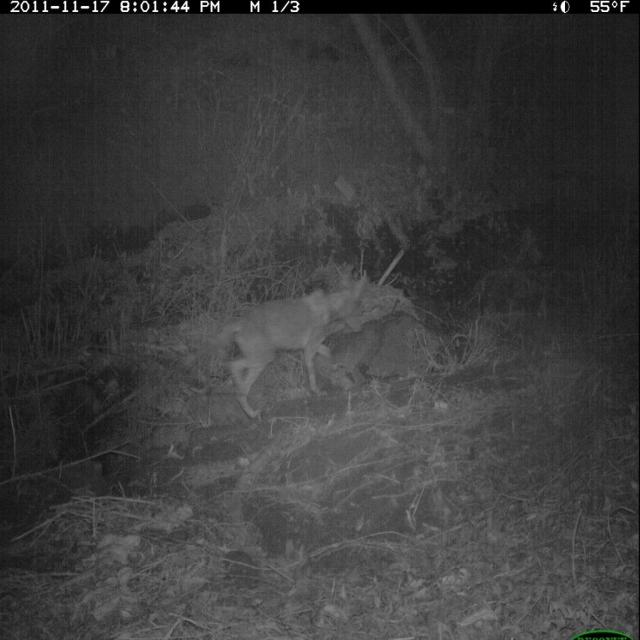coyote: (208, 268, 370, 429)
